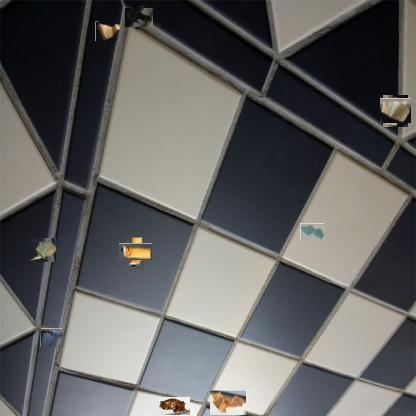dirty: (210, 390, 246, 415), (381, 97, 410, 125), (123, 239, 148, 265), (156, 397, 191, 415), (30, 238, 56, 262), (127, 5, 151, 29), (95, 21, 120, 41)
liquid: (300, 223, 325, 240), (40, 328, 62, 347)
